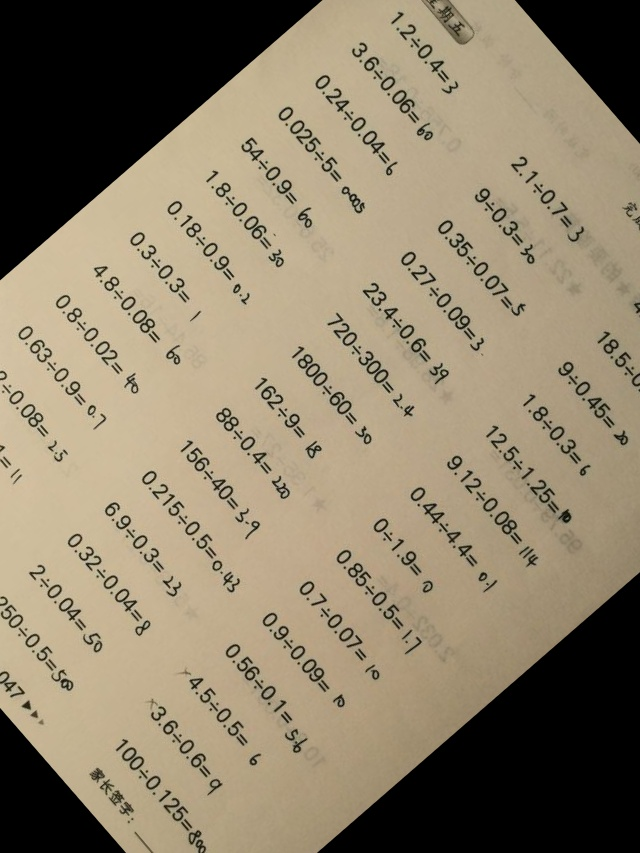equation: (141, 470, 245, 589), (115, 740, 213, 852), (446, 455, 543, 565), (277, 106, 369, 211), (223, 644, 314, 748), (93, 262, 184, 366), (400, 251, 491, 354), (327, 314, 417, 417), (409, 486, 499, 588), (167, 200, 256, 302), (17, 325, 106, 426), (334, 549, 423, 650), (55, 294, 143, 394), (486, 426, 574, 525), (67, 533, 154, 632), (261, 611, 348, 710), (299, 580, 386, 679), (314, 74, 401, 173), (363, 282, 450, 380), (438, 220, 524, 318), (352, 42, 438, 140), (291, 347, 377, 444), (181, 666, 266, 762), (206, 169, 291, 265), (178, 440, 261, 535), (103, 502, 185, 594), (0, 596, 77, 692), (215, 407, 295, 498), (0, 357, 70, 459), (241, 137, 319, 226), (29, 564, 107, 652), (129, 232, 205, 318), (558, 361, 632, 445), (512, 156, 586, 240), (149, 708, 223, 792), (388, 10, 461, 92), (523, 394, 593, 474), (253, 377, 323, 456), (474, 187, 542, 263), (372, 517, 438, 591), (596, 331, 640, 428), (0, 389, 25, 481), (632, 298, 640, 406)
